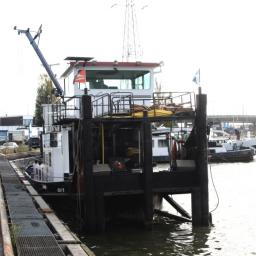tugboat: (13, 25, 216, 237)
